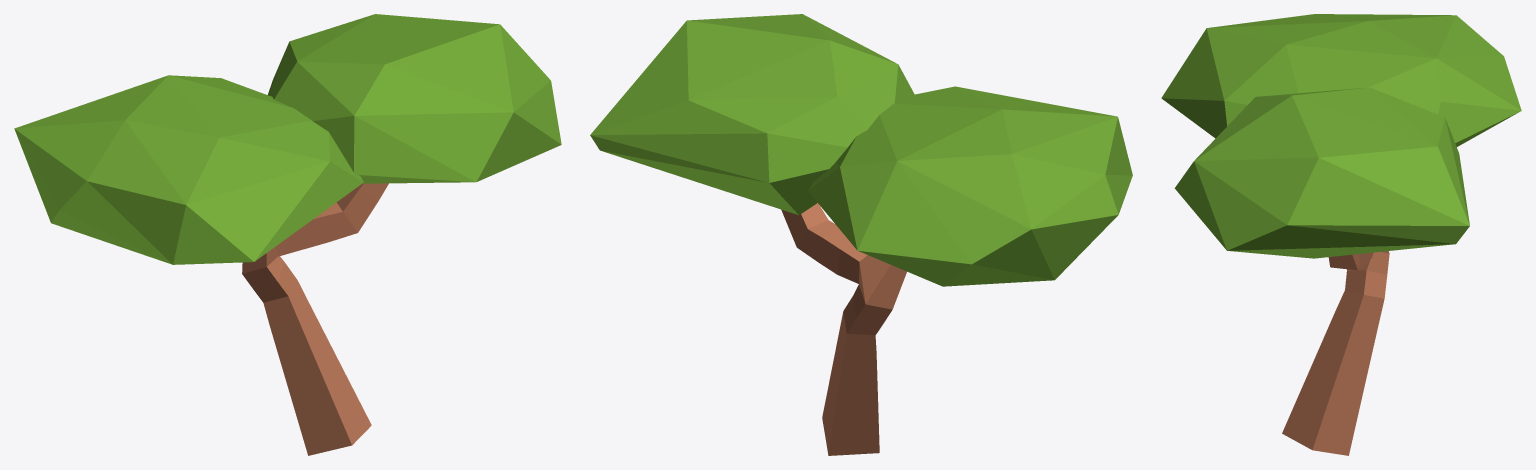
The model's file is oak 4.gltf.
3 renders of one model, left to right at view 1: azimuth 30°, elevation 25°; view 2: azimuth 150°, elevation 25°; view 3: azimuth 270°, elevation 25°, orthographic. The views are drawn at different scales.
Visible parts, largest first — view 1: Icosphere.006, Icosphere.005, tree.003; view 2: Icosphere.006, Icosphere.005, tree.003; view 3: Icosphere.005, Icosphere.006, tree.003.
Part boxes in pixels (x1=…): Icosphere.006: x1=14, y1=75, x2=363, y2=264; Icosphere.005: x1=268, y1=14, x2=561, y2=183; tree.003: x1=242, y1=183, x2=388, y2=455; Icosphere.006: x1=808, y1=86, x2=1132, y2=286; Icosphere.005: x1=590, y1=14, x2=914, y2=215; tree.003: x1=781, y1=203, x2=906, y2=455; Icosphere.005: x1=1174, y1=87, x2=1469, y2=258; Icosphere.006: x1=1161, y1=14, x2=1521, y2=146; tree.003: x1=1282, y1=251, x2=1389, y2=455.
Bounding box in the file's own units: 9.15 × 7.17 × 6.27.
1 material, 1 textured.
